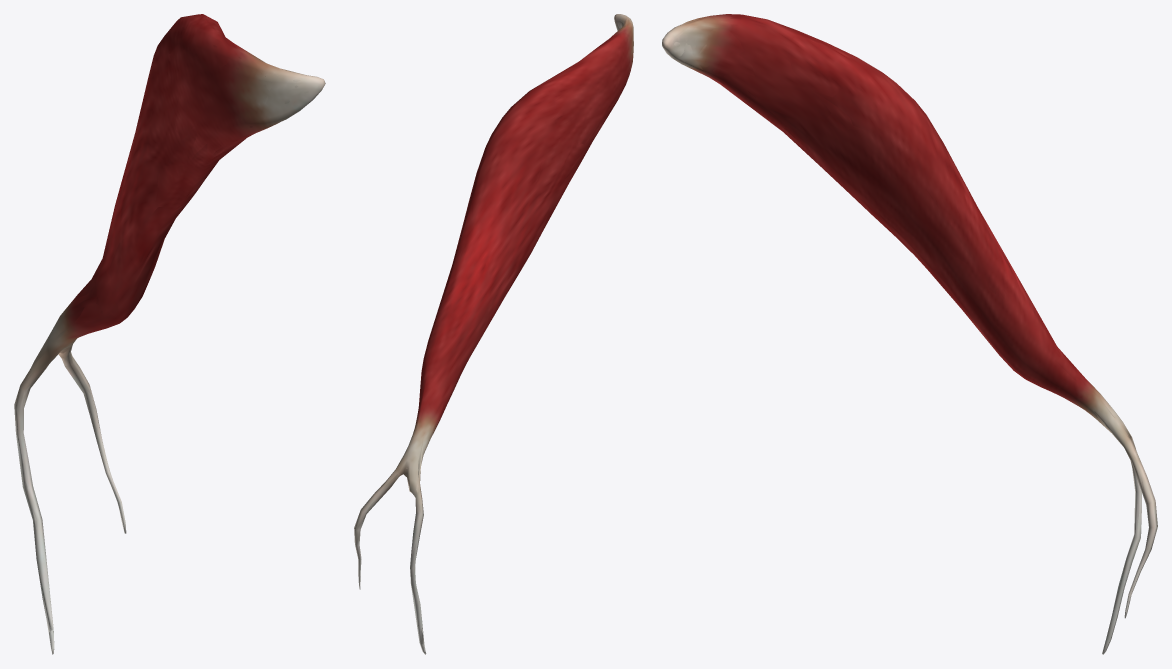
Rendered from R Flexor digitorum superficialis.fbx.
The picture shows the model from 3 angles, left to right: view 1: azimuth 30°, elevation 25°; view 2: azimuth 150°, elevation 25°; view 3: azimuth 270°, elevation 25°; orthographic projection. The views are drawn at different scales.
Parts seen in each view (by area): view 1: R Flexor digitorum superficialis, R Flexor digitorum superficialis low, R Flexor digitorum superficialis high; view 2: R Flexor digitorum superficialis, R Flexor digitorum superficialis low, R Flexor digitorum superficialis high; view 3: R Flexor digitorum superficialis, R Flexor digitorum superficialis low, R Flexor digitorum superficialis high.
Boxes of the visible parts, x1,y1,x2,y2 form: R Flexor digitorum superficialis: [14, 14, 325, 654]; R Flexor digitorum superficialis low: [16, 14, 323, 652]; R Flexor digitorum superficialis high: [19, 15, 318, 648]; R Flexor digitorum superficialis: [354, 14, 633, 654]; R Flexor digitorum superficialis low: [354, 15, 633, 652]; R Flexor digitorum superficialis high: [358, 15, 632, 591]; R Flexor digitorum superficialis: [662, 14, 1157, 654]; R Flexor digitorum superficialis low: [663, 14, 1157, 648]; R Flexor digitorum superficialis high: [664, 17, 1149, 599].
Bounding box in the file's own units: 2.23 × 10.67 × 7.76.
